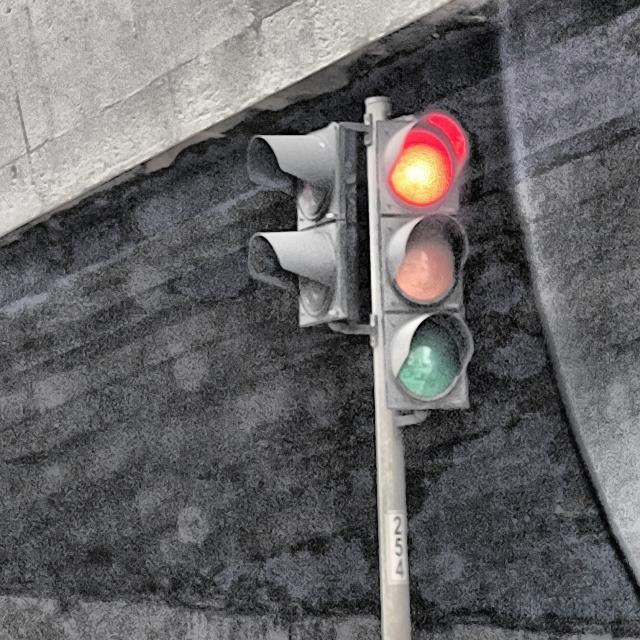red: (384, 116, 469, 413)
